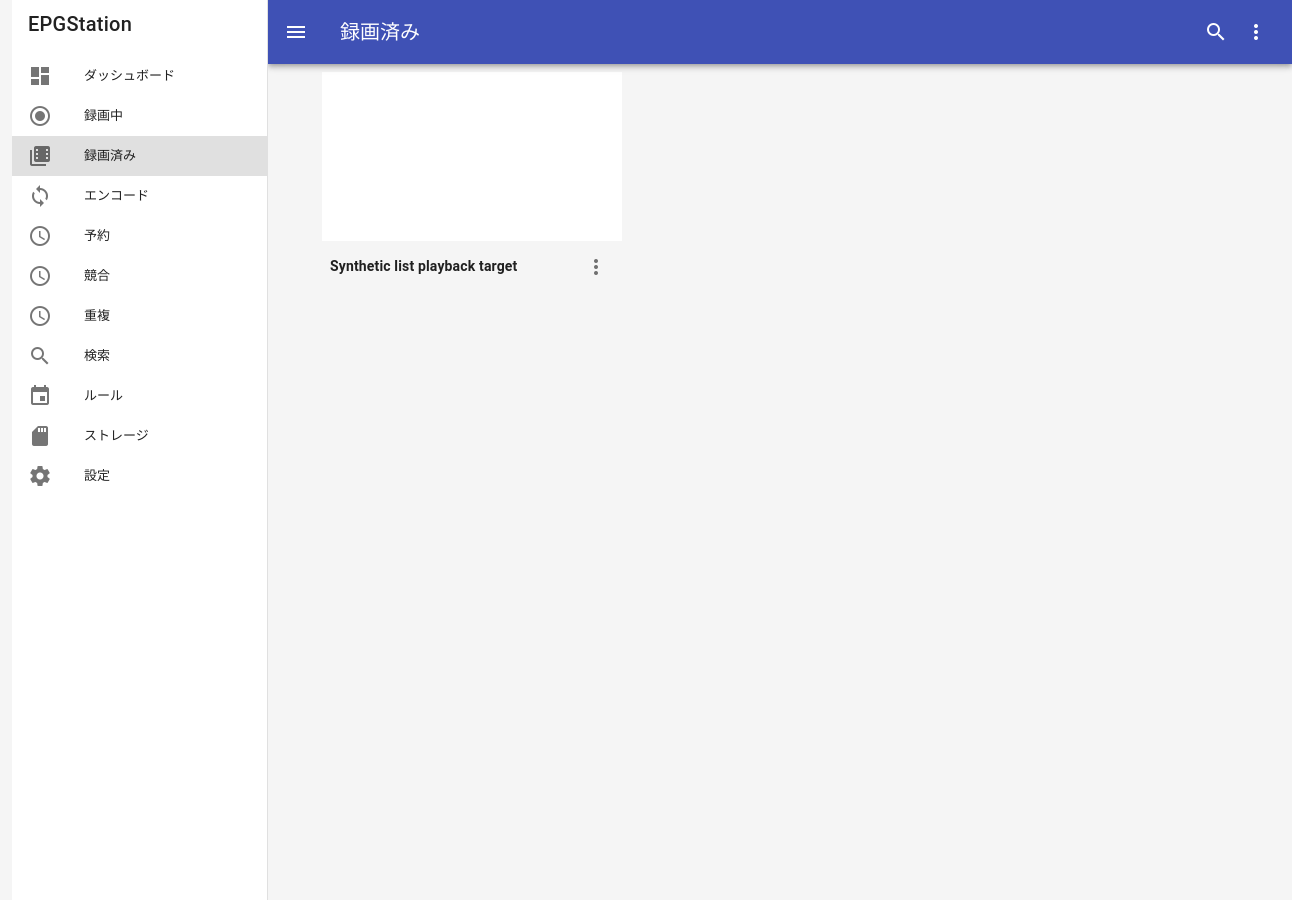
Scenario: Recorded list actions › [AC 2.36] keeps list item playback out of the recorded item menu
Expected: the heading "Synthetic list playback target" is shown, [330, 258, 517, 274]
Click the button named "録画メニュー: Synthetic list playback target" at (596, 267), box [578, 249, 614, 285]
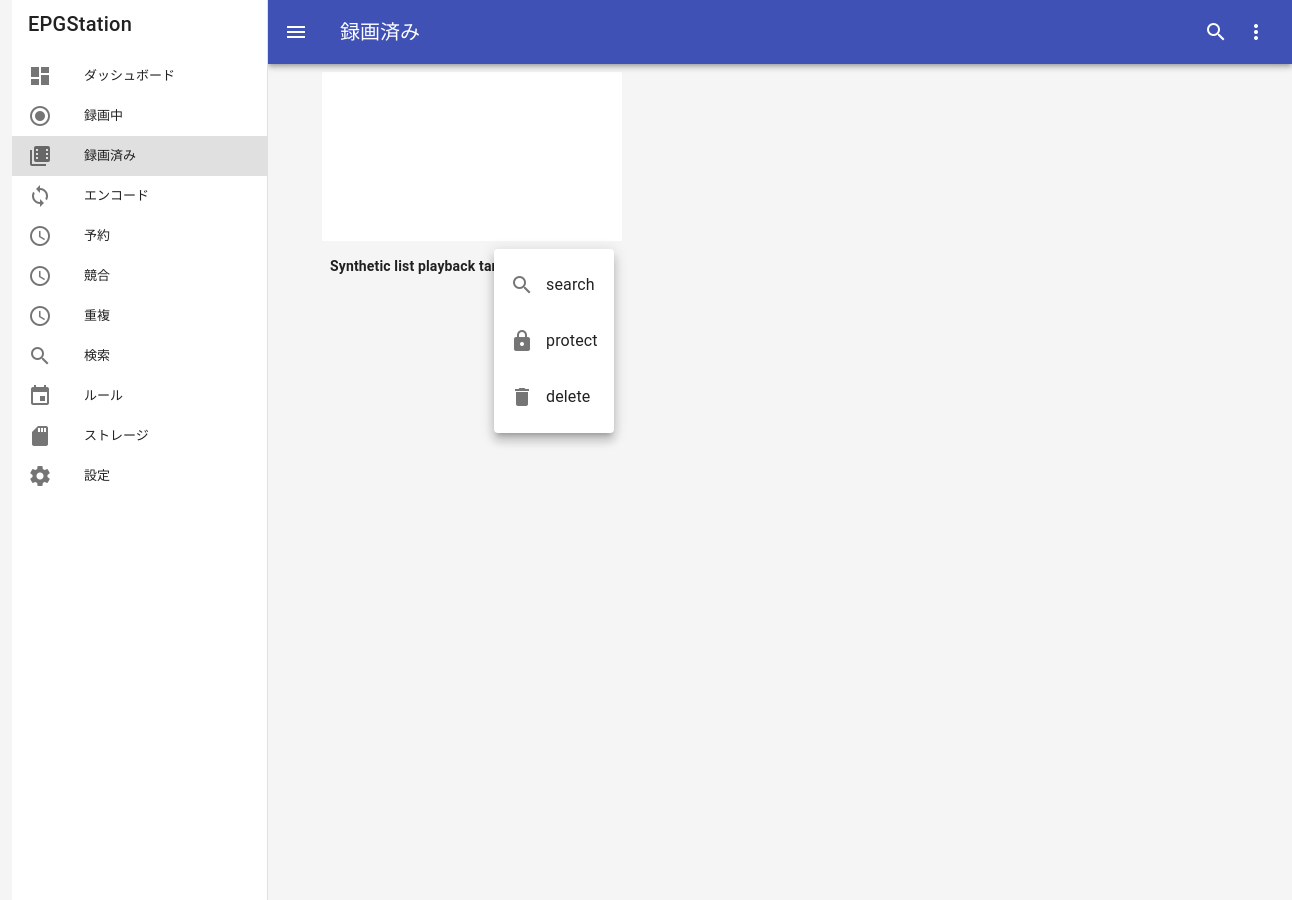
Now the menu item "search" is shown, box [510, 273, 595, 297]
